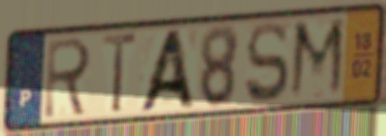8: (197, 21, 241, 112)
A: (134, 26, 199, 114)
M: (286, 15, 348, 104)
R: (41, 34, 95, 122)
S: (243, 19, 292, 106)
T: (99, 30, 140, 117)
